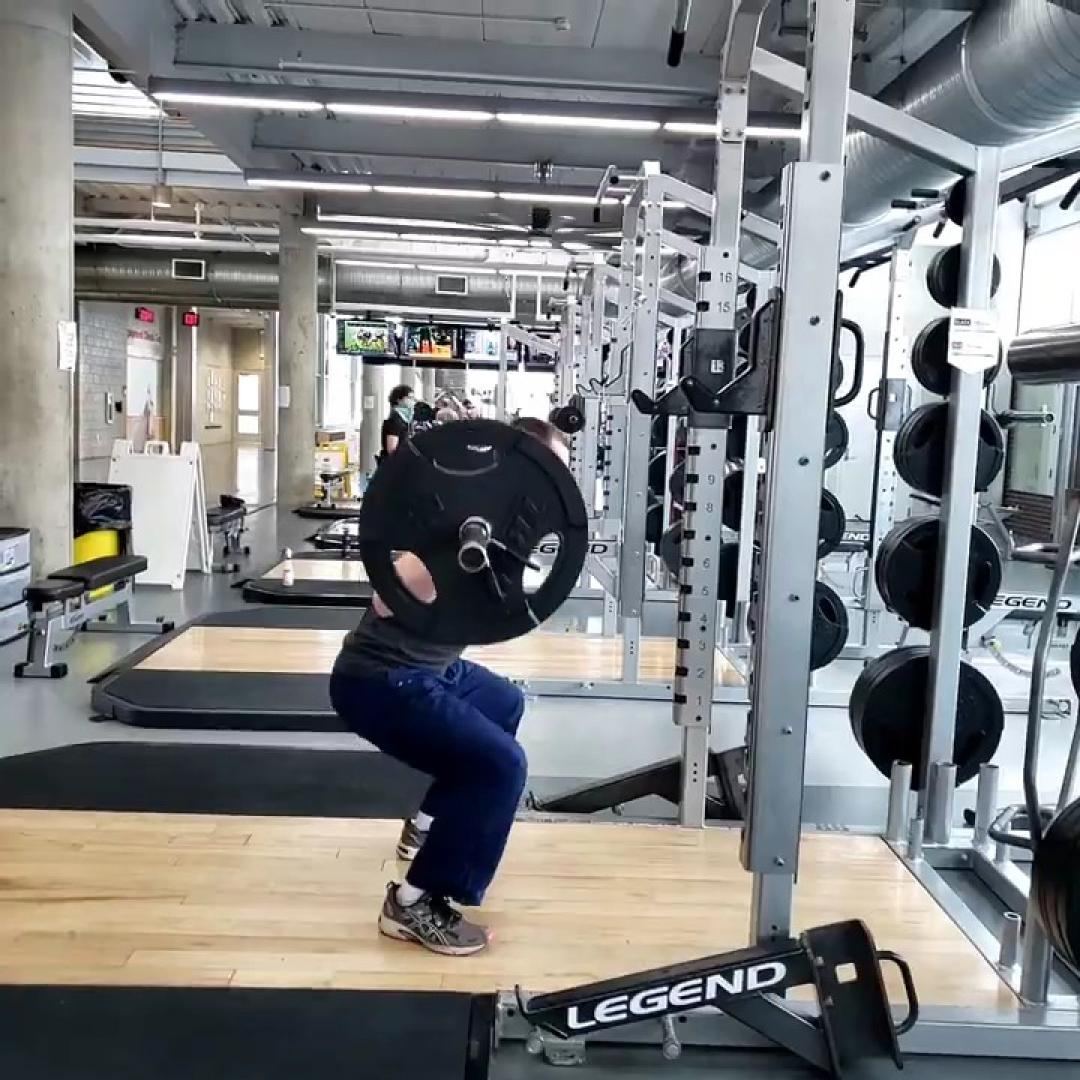Bar: (458, 541, 488, 573)
Barbell: (358, 418, 590, 644)
